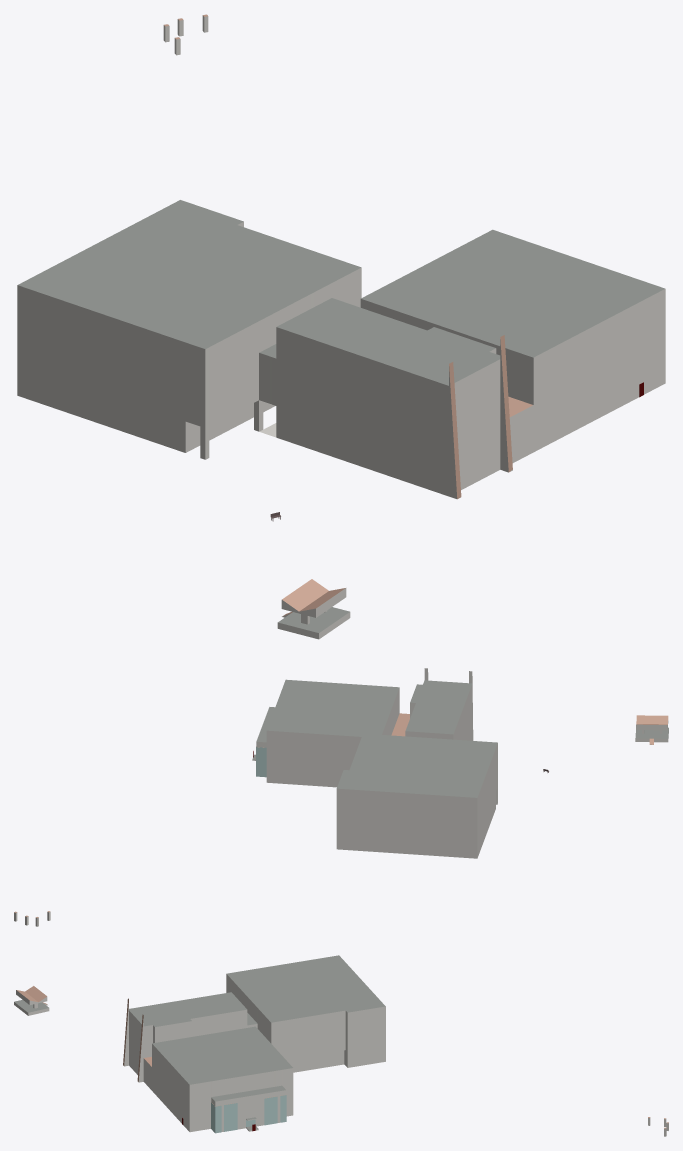
File: gridID_92.dae
3 views of the same model, one above another, from view 1: azimuth 30°, elevation 25°; view 2: azimuth 150°, elevation 25°; view 3: azimuth 270°, elevation 25° (orthographic). The views are drawn at different scales.
Visible parts, largest first — view 1: model_gridID_92_w116940019, model_gridID_92_w379703315; view 2: model_gridID_92_w116940019, model_gridID_92_w379703315; view 3: model_gridID_92_w116940019, model_gridID_92_w379703315.
Part boxes in pixels (x1=…): model_gridID_92_w116940019: x1=17, y1=200, x2=665, y2=499; model_gridID_92_w379703315: x1=277, y1=579, x2=350, y2=639; model_gridID_92_w116940019: x1=252, y1=668, x2=497, y2=858; model_gridID_92_w379703315: x1=635, y1=715, x2=668, y2=744; model_gridID_92_w116940019: x1=123, y1=955, x2=385, y2=1133; model_gridID_92_w379703315: x1=14, y1=986, x2=49, y2=1015.
Size of the model in its own units: 92.71 by 188 by 21.
